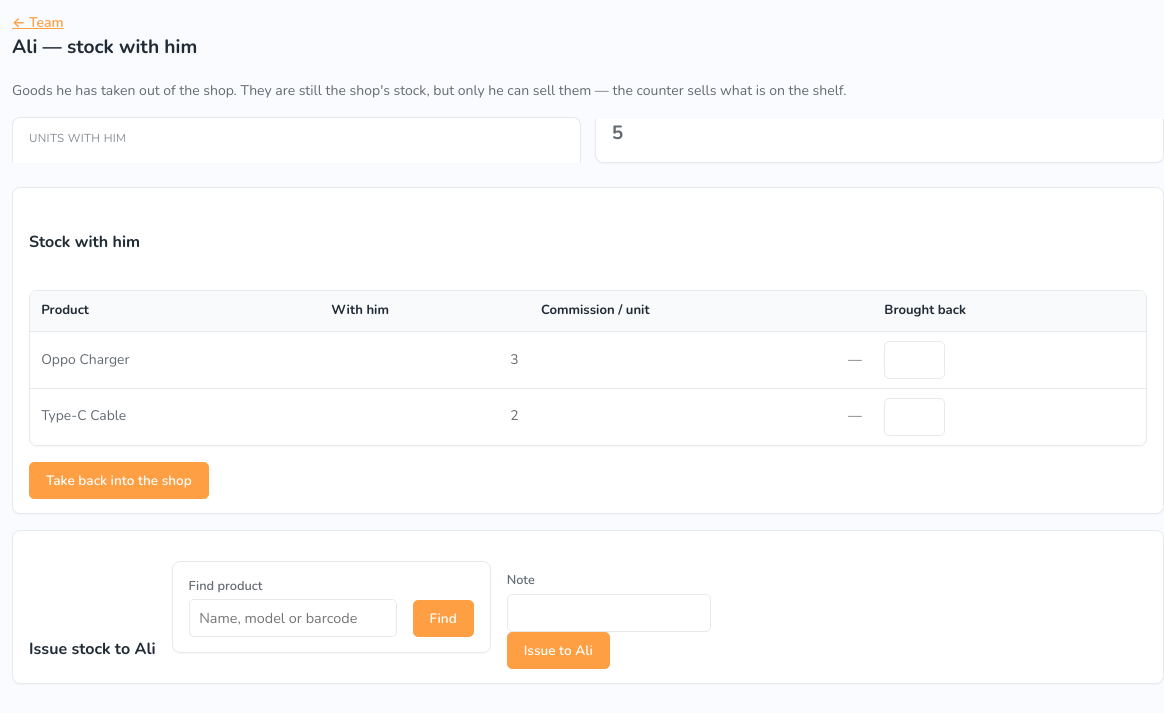
Test: the stock with a salesman › shows the server’s refusal in words
Type "9" into the number field named "bring back oppo charger" at (914,360), box [884,341,945,379]
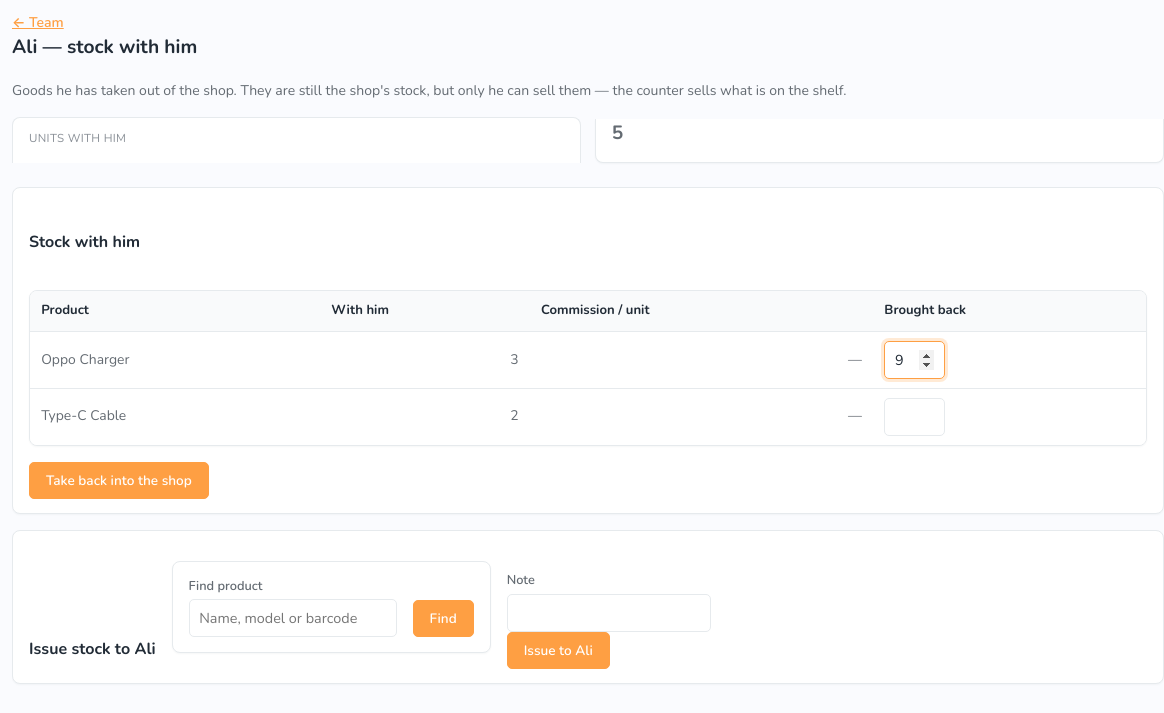
Click the button "Take back into the shop" at (119,480), box [29,462,209,499]
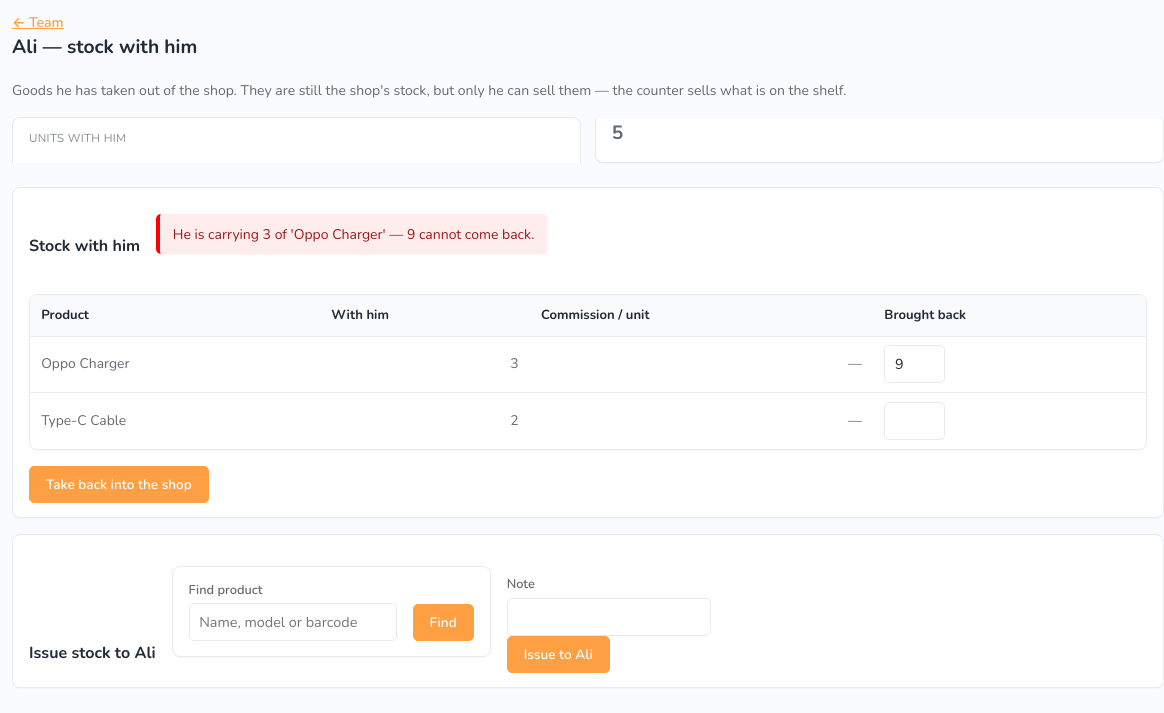
Expected: the message shows "cannot come back", [173,225,534,244]
